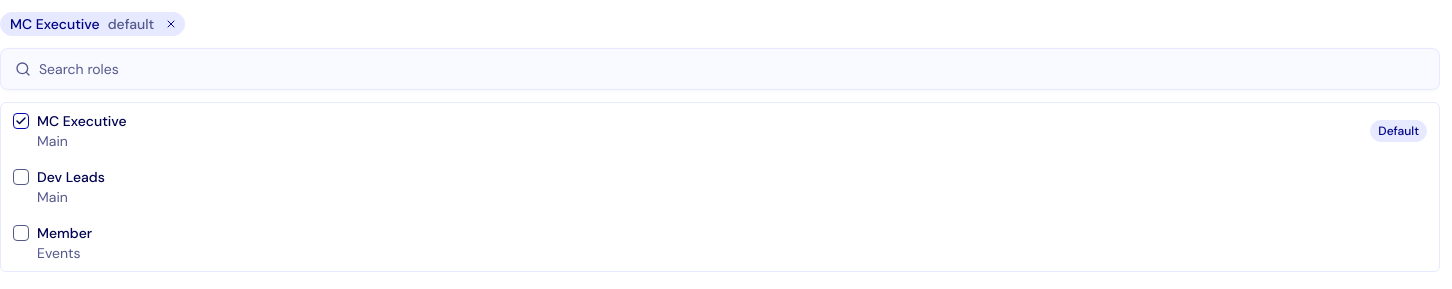
RolePicker › adds a role from the list
Click the checkbox named "Dev Leads" next to "Dev Leads".
click(21, 177)  # box left=13, top=169, right=29, bottom=185
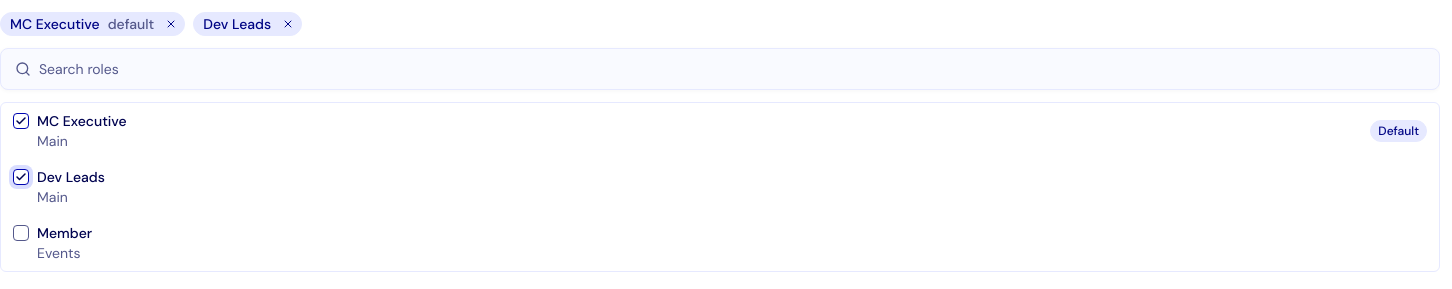
Now the list named "Selected roles" shows "Dev Leads", box left=203, top=15, right=271, bottom=33
